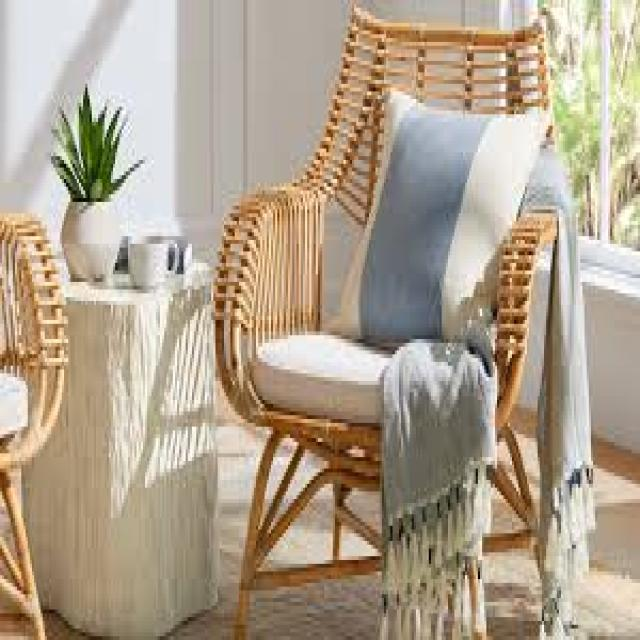chair: (177, 0, 602, 640)
